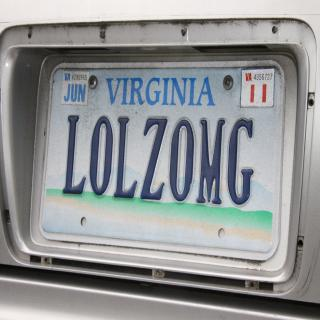license: (39, 67, 288, 263)
